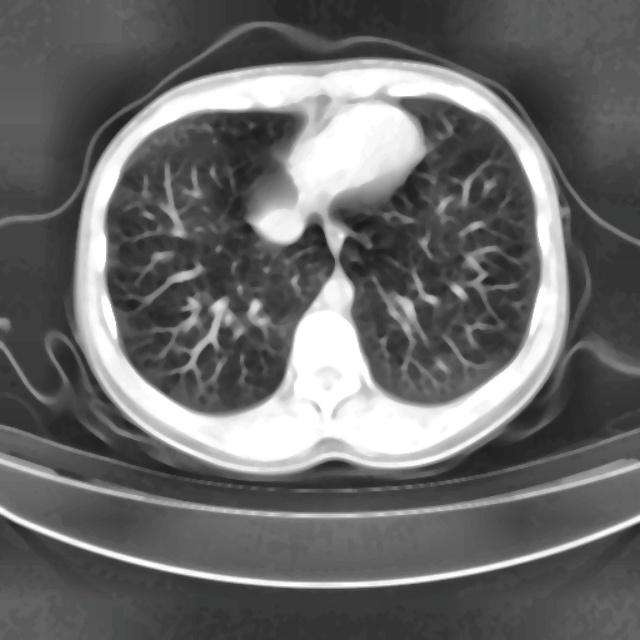covid: (71, 53, 570, 479)
